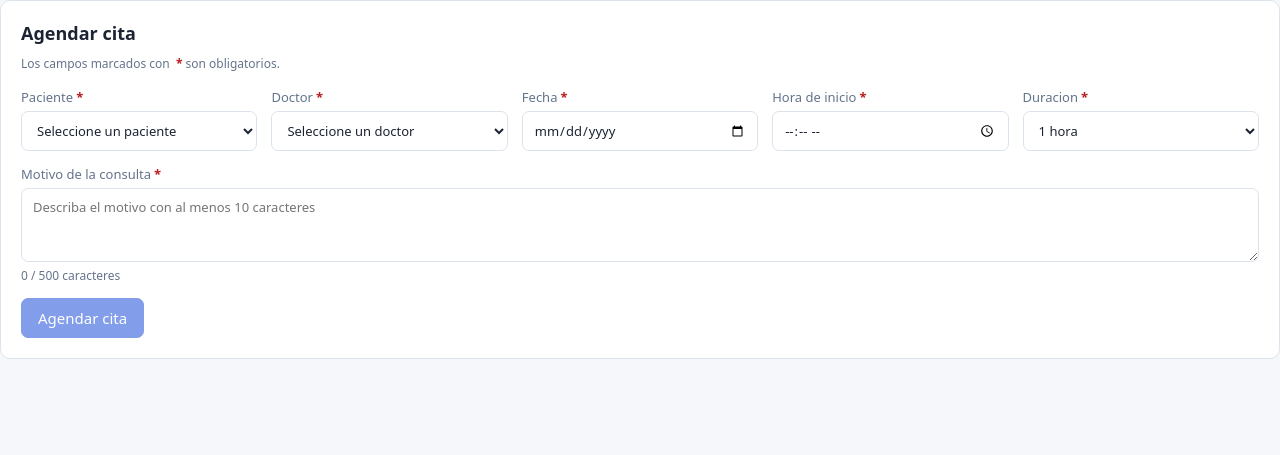
Test: AppointmentForm › muestra el conflicto de horario que solo el backend puede detectar
The width and height of the screenshot is (1280, 455).
Select "Ana Maria Lopez" in the dropdown labelled "Paciente*". click: (139, 131)
box: [21,111,257,151]
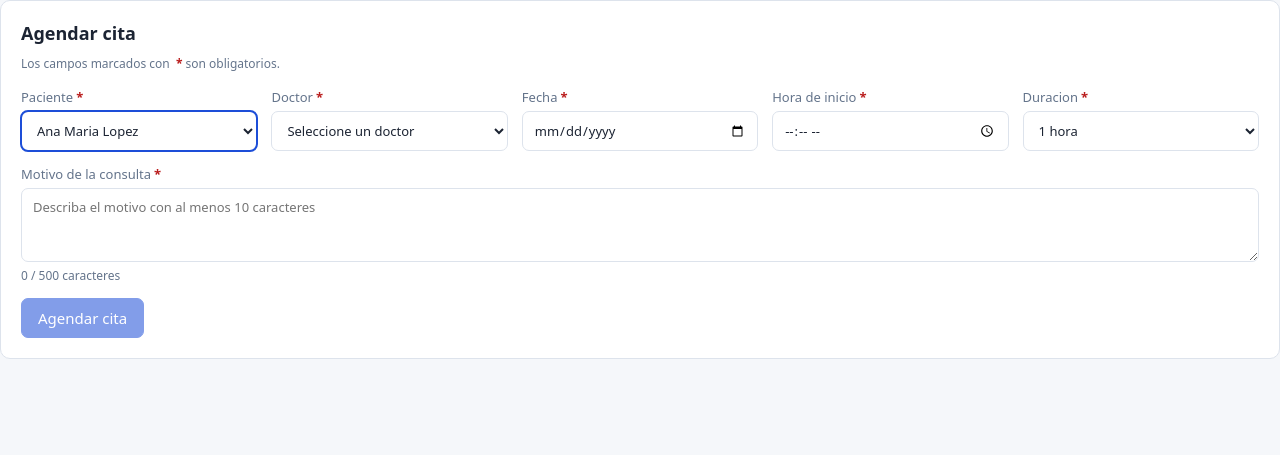
Select "Dr(a). Elena Navarro — Cardiologia" in the dropdown labelled "Doctor*". click: (390, 131)
box: [271,111,508,151]
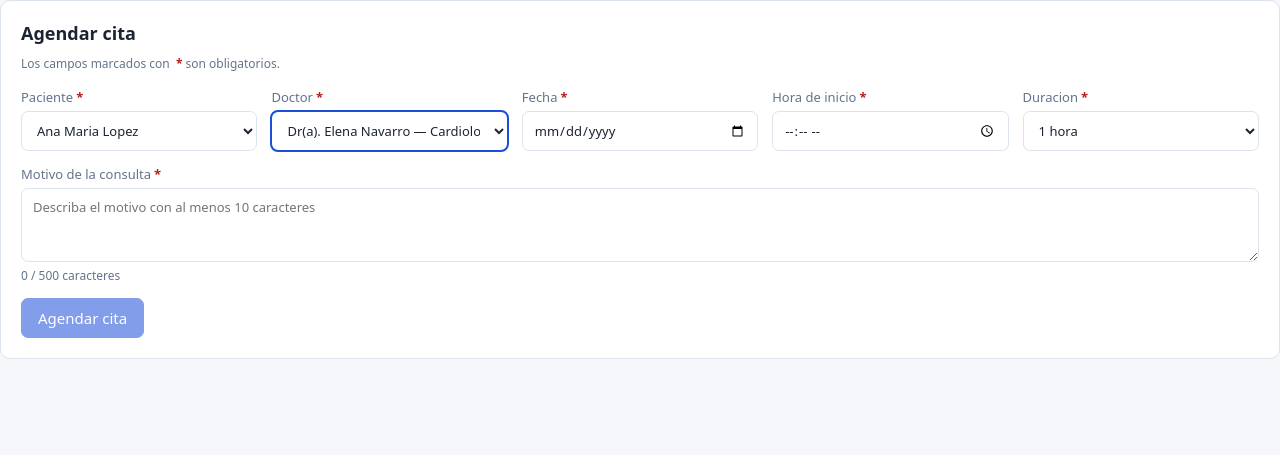
Type "2026-12-15" into the date field labelled "Fecha*". click: (640, 131)
box: [522,111,758,151]
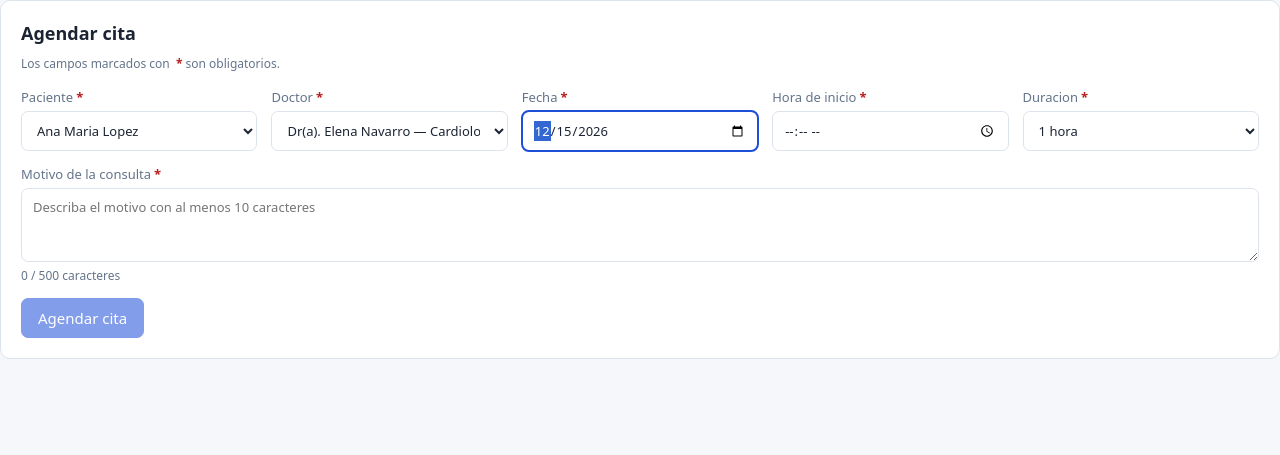
Type "10:00" into the time field labelled "Hora de inicio*". click: (890, 131)
box: [772,111,1009,151]
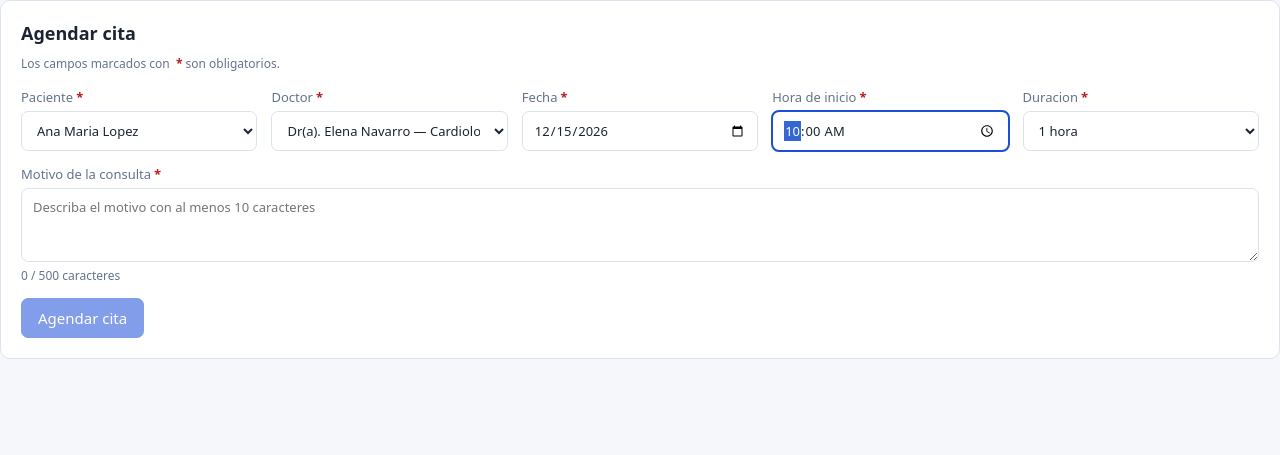
Type "Dolor de cabeza persistente" into the text box labelled "Motivo de la consulta* 0 / 500 caracteres". click: (640, 225)
box: [21,188,1259,262]
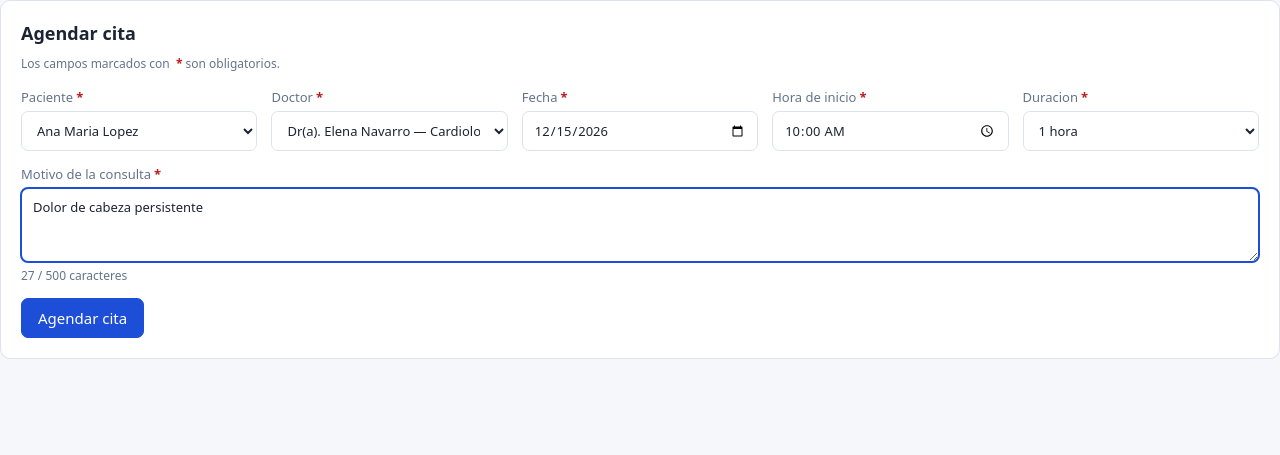
Click the button "Agendar cita". click: (83, 318)
box: [21,298,144,338]
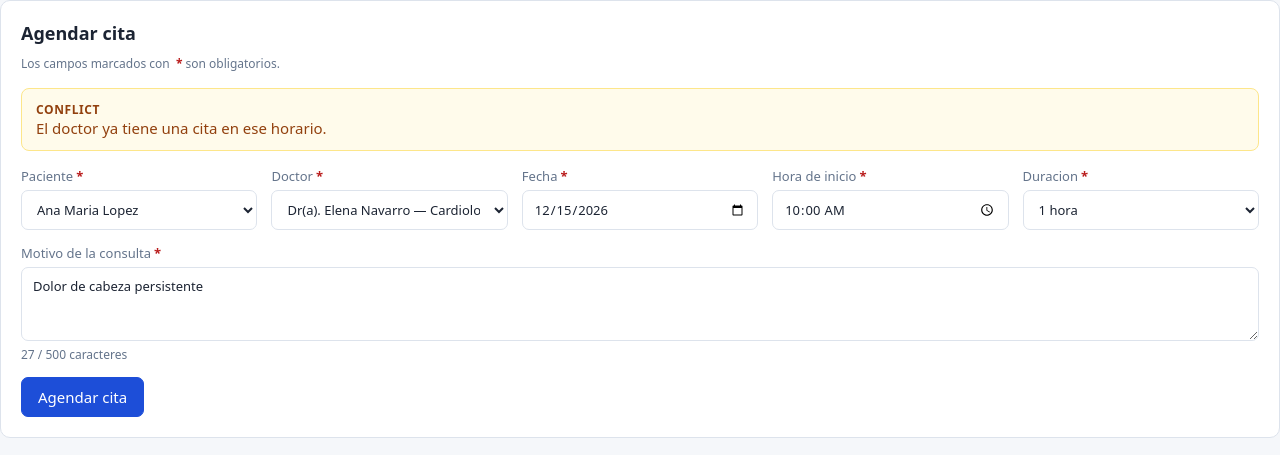
expect the text "El doctor ya tiene una cita en ese horario." is shown: met, box [36,118,327,138]
